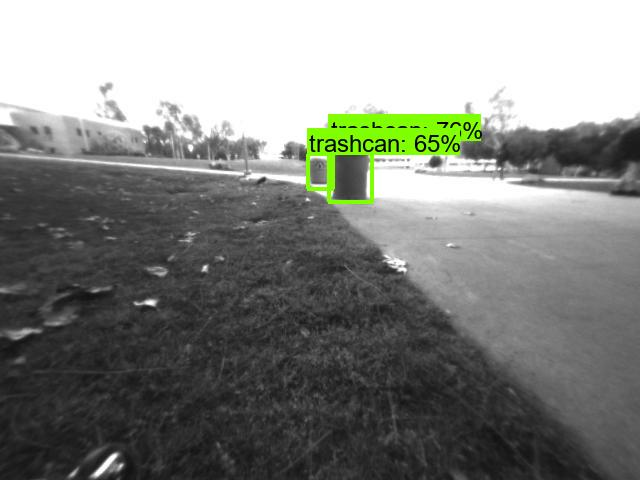trashcan: (331, 145, 370, 205), (308, 156, 331, 187)
